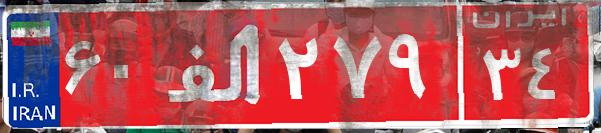0: (110, 28, 158, 105)
2: (273, 28, 330, 110)
3: (475, 38, 525, 113)
4: (525, 38, 570, 115)
6: (57, 26, 110, 107)
7: (330, 28, 385, 110)
9: (385, 28, 445, 110)
الف: (158, 15, 273, 115)
